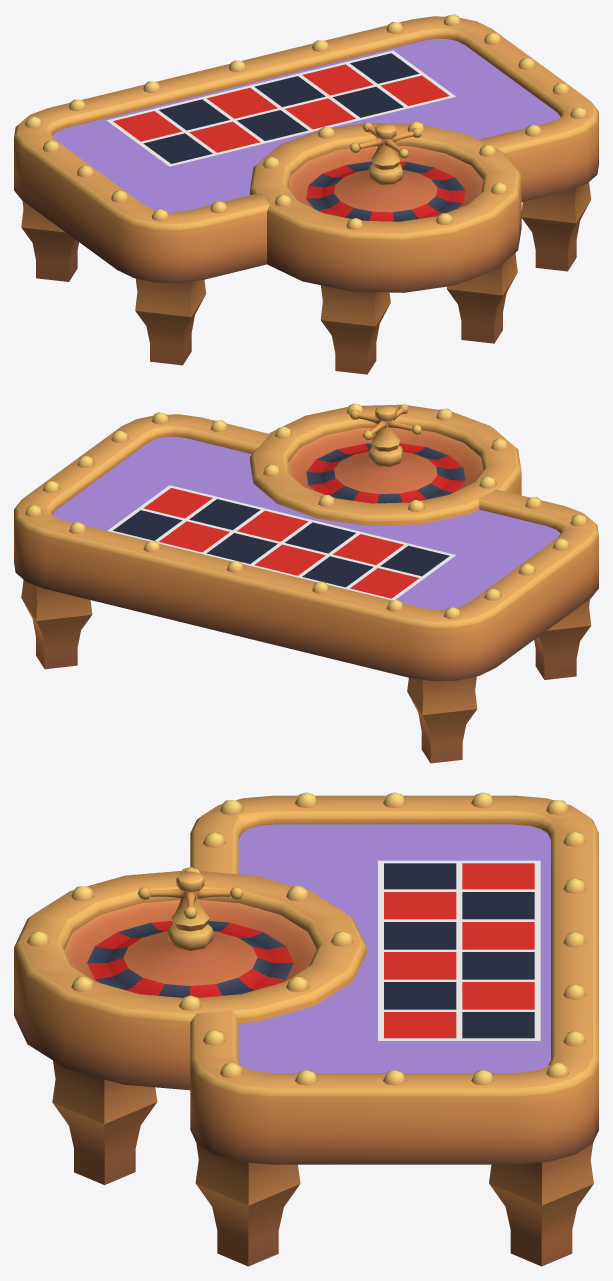
File: Roulette_table_03.fbx
The picture shows the model from 3 angles, top to bottom: view 1: azimuth 30°, elevation 25°; view 2: azimuth 150°, elevation 25°; view 3: azimuth 270°, elevation 25°; orthographic projection. The views are drawn at different scales.
Visible parts, largest first — view 1: Roulette_table_03, Roulette_spinner_03; view 2: Roulette_table_03, Roulette_spinner_03; view 3: Roulette_table_03, Roulette_spinner_03.
Part boxes in pixels (bbox=[...]): Roulette_table_03: bbox=[14, 14, 598, 374]; Roulette_spinner_03: bbox=[306, 122, 465, 221]; Roulette_table_03: bbox=[14, 403, 598, 763]; Roulette_spinner_03: bbox=[306, 404, 465, 503]; Roulette_table_03: bbox=[14, 792, 598, 1266]; Roulette_spinner_03: bbox=[87, 867, 293, 997].
Size of the model in its own units: 2.93 by 2.43 by 1.17.
